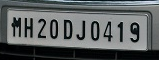0: (90, 19, 101, 42), (49, 19, 59, 39)
1: (117, 21, 125, 42)
2: (37, 18, 48, 39)
4: (103, 21, 114, 43)
9: (130, 21, 141, 43)
D: (63, 18, 74, 41)
H: (23, 17, 35, 40)
J: (76, 19, 88, 41)
M: (12, 16, 23, 38)
